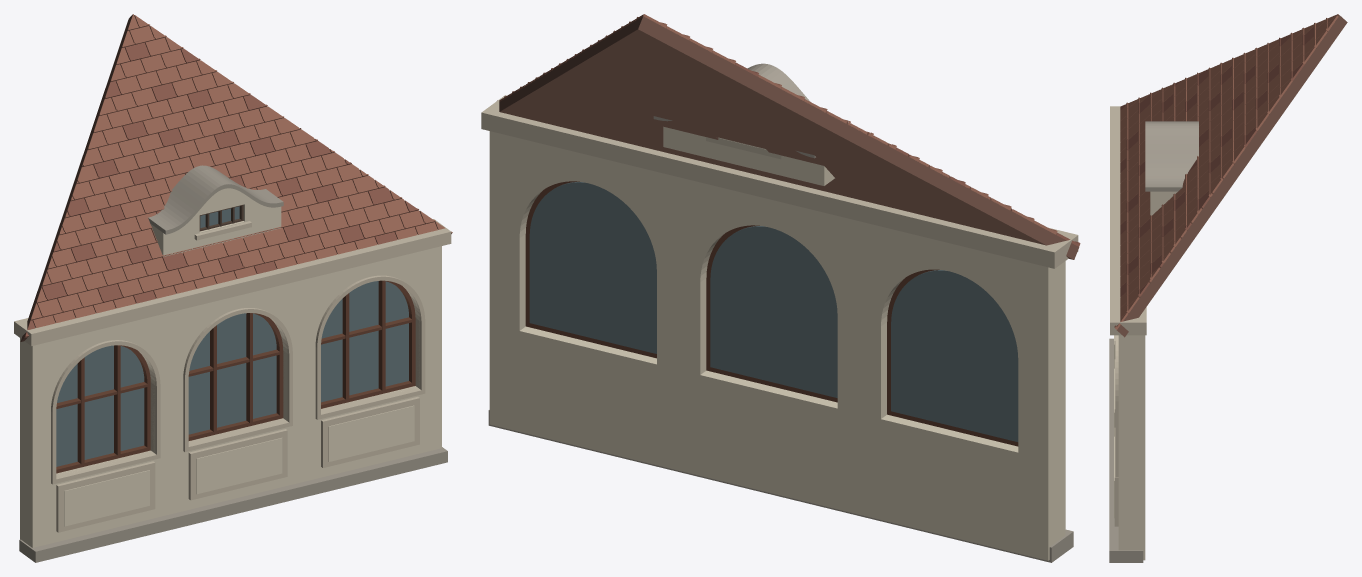
The model's file is changning-fan-garden-no8-three-arched-windows-web.glb.
3 views of the same model, side by side, from view 1: azimuth 30°, elevation 25°; view 2: azimuth 150°, elevation 25°; view 3: azimuth 270°, elevation 25° (orthographic). The views are drawn at different scales.
Visible parts, largest first — view 1: 范园8号李铭住宅三联券窗与波形老虎窗; view 2: 范园8号李铭住宅三联券窗与波形老虎窗; view 3: 范园8号李铭住宅三联券窗与波形老虎窗.
Part boxes in pixels (left/top/right/bottom): 范园8号李铭住宅三联券窗与波形老虎窗: left=14, top=14, right=452, bottom=562; 范园8号李铭住宅三联券窗与波形老虎窗: left=481, top=14, right=1080, bottom=562; 范园8号李铭住宅三联券窗与波形老虎窗: left=1109, top=14, right=1347, bottom=562.
Bounding box in the file's own units: 4.85 × 4.54 × 2.22.
